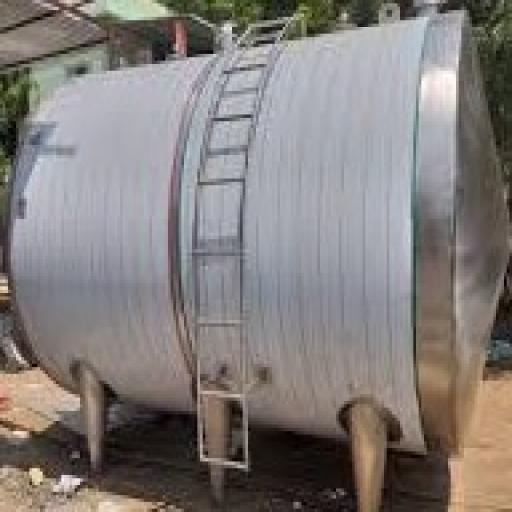silo: (8, 10, 509, 509)
